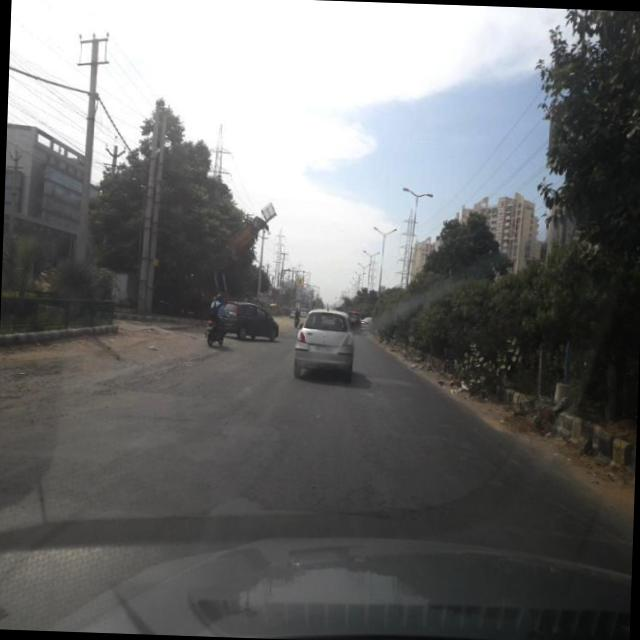crack: (213, 386, 444, 529)
